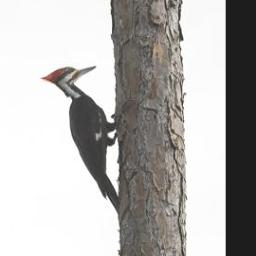Woodpecker: (39, 65, 119, 216)
